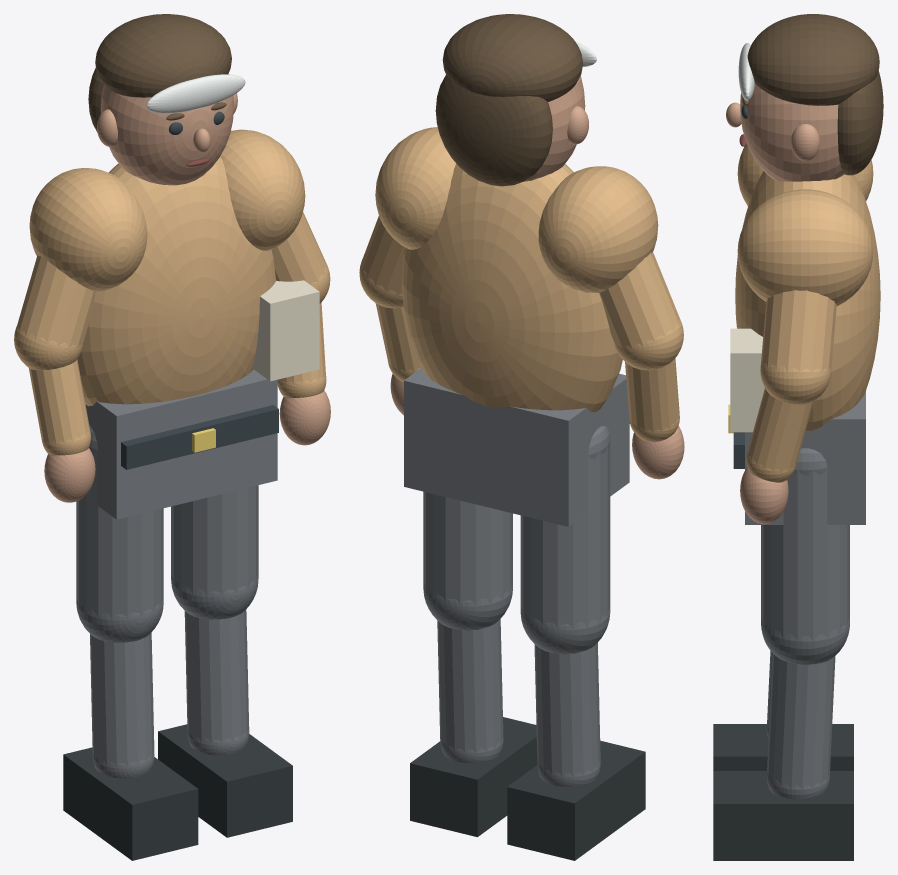
File: npc_injured.glb
3 renders of one model, left to right at view 1: azimuth 30°, elevation 25°; view 2: azimuth 150°, elevation 25°; view 3: azimuth 270°, elevation 25°, orthographic. The views are drawn at different scales.
Visible parts, largest first — view 1: torso_base, pelvis, shoulder_left, left_boot, left_trouser_upper, right_boot, hair_cap, right_trouser_upper, head, left_trouser_lower, right_trouser_lower, shoulder_right (+18 smaller); view 2: torso_base, pelvis, shoulder_left, left_trouser_upper, left_boot, hair_cap, hair_back, right_boot, right_trouser_upper, left_trouser_lower, right_trouser_lower, shoulder_right (+13 smaller); view 3: shoulder_right, right_trouser_upper, right_boot, torso_base, hair_cap, right_trouser_lower, head, pelvis, right_upper_arm, left_boot, right_forearm, hair_back (+11 smaller).
Boxes of the visible parts, bbox=[...] form: torso_base: bbox=[77, 156, 275, 406]; pelvis: bbox=[85, 369, 277, 519]; shoulder_left: bbox=[29, 168, 147, 291]; left_boot: bbox=[63, 747, 198, 860]; left_trouser_upper: bbox=[76, 451, 163, 620]; right_boot: bbox=[158, 724, 292, 837]; hair_cap: bbox=[95, 14, 231, 97]; right_trouser_upper: bbox=[171, 485, 258, 597]; head: bbox=[100, 85, 233, 185]; left_trouser_lower: bbox=[90, 632, 154, 767]; right_trouser_lower: bbox=[184, 609, 249, 744]; shoulder_right: bbox=[220, 129, 305, 250]; torso_base: bbox=[401, 163, 622, 412]; pelvis: bbox=[404, 368, 629, 526]; shoulder_left: bbox=[538, 166, 658, 292]; left_trouser_upper: bbox=[520, 441, 610, 630]; left_boot: bbox=[507, 740, 645, 860]; hair_cap: bbox=[442, 14, 582, 101]; hair_back: bbox=[435, 74, 552, 186]; right_boot: bbox=[410, 717, 537, 837]; right_trouser_upper: bbox=[423, 491, 512, 606]; left_trouser_lower: bbox=[534, 642, 600, 777]; right_trouser_lower: bbox=[437, 619, 503, 754]; shoulder_right: bbox=[375, 127, 455, 249]; shoulder_right: bbox=[737, 189, 873, 306]; right_trouser_upper: bbox=[761, 468, 849, 641]; right_boot: bbox=[713, 771, 853, 860]; torso_base: bbox=[735, 171, 880, 430]; hair_cap: bbox=[747, 14, 879, 105]; right_trouser_lower: bbox=[766, 653, 835, 789]; head: bbox=[740, 83, 843, 181]; pelvis: bbox=[745, 391, 865, 524]; right_upper_arm: bbox=[761, 290, 836, 374]; left_boot: bbox=[713, 724, 853, 770]; right_forearm: bbox=[747, 388, 813, 472]; hair_back: bbox=[837, 71, 883, 175].
Bounding box in the file's own units: 0.7449 × 1.81 × 0.351.
